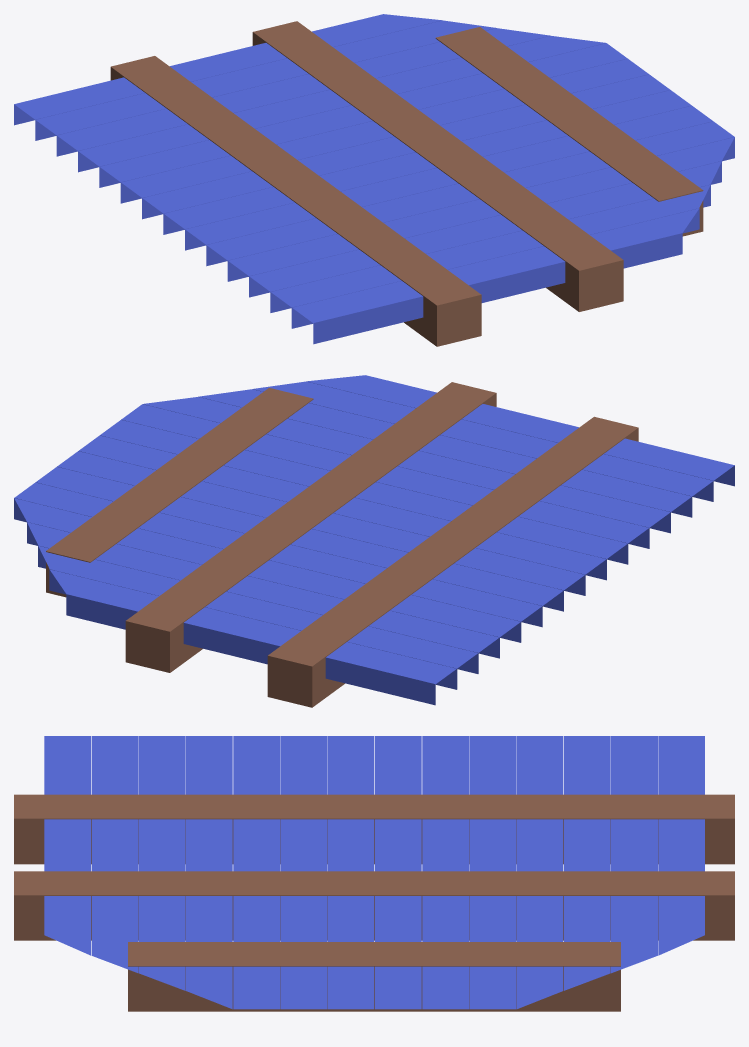
File: KitchenFloor.fbx
The picture shows the model from 3 angles, top to bottom: view 1: azimuth 30°, elevation 25°; view 2: azimuth 150°, elevation 25°; view 3: azimuth 270°, elevation 25°; orthographic projection. The views are drawn at different scales.
Parts seen in each view (by area): view 1: Kitchen_Floor; view 2: Kitchen_Floor; view 3: Kitchen_Floor.
Part boxes in pixels (bbox=[...]): Kitchen_Floor: bbox=[14, 14, 734, 346]; Kitchen_Floor: bbox=[14, 375, 734, 707]; Kitchen_Floor: bbox=[14, 736, 734, 1011].
Bounding box in the file's own units: 232 × 18.05 × 259.
